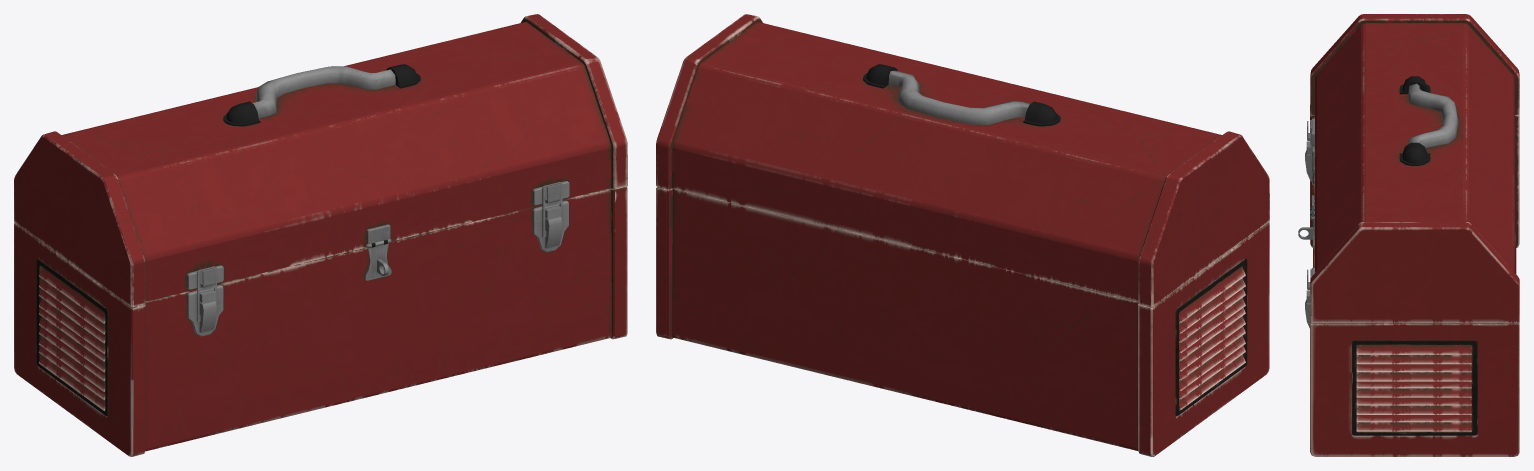
Rendered from Caja_herramientas.obj.
3 views of the same model, side by side, from view 1: azimuth 30°, elevation 25°; view 2: azimuth 150°, elevation 25°; view 3: azimuth 270°, elevation 25° (orthographic). The views are drawn at different scales.
Parts seen in each view (by area): view 1: Toolbox; view 2: Toolbox; view 3: Toolbox.
Part boxes in pixels (box(x1,y1,x2,y2)): Toolbox: box(14, 14, 627, 456); Toolbox: box(656, 14, 1269, 456); Toolbox: box(1298, 14, 1519, 456).
Size of the model in its own units: 0.5951 by 0.3063 by 0.2582.
Materials: 1 (1 with a texture image).
